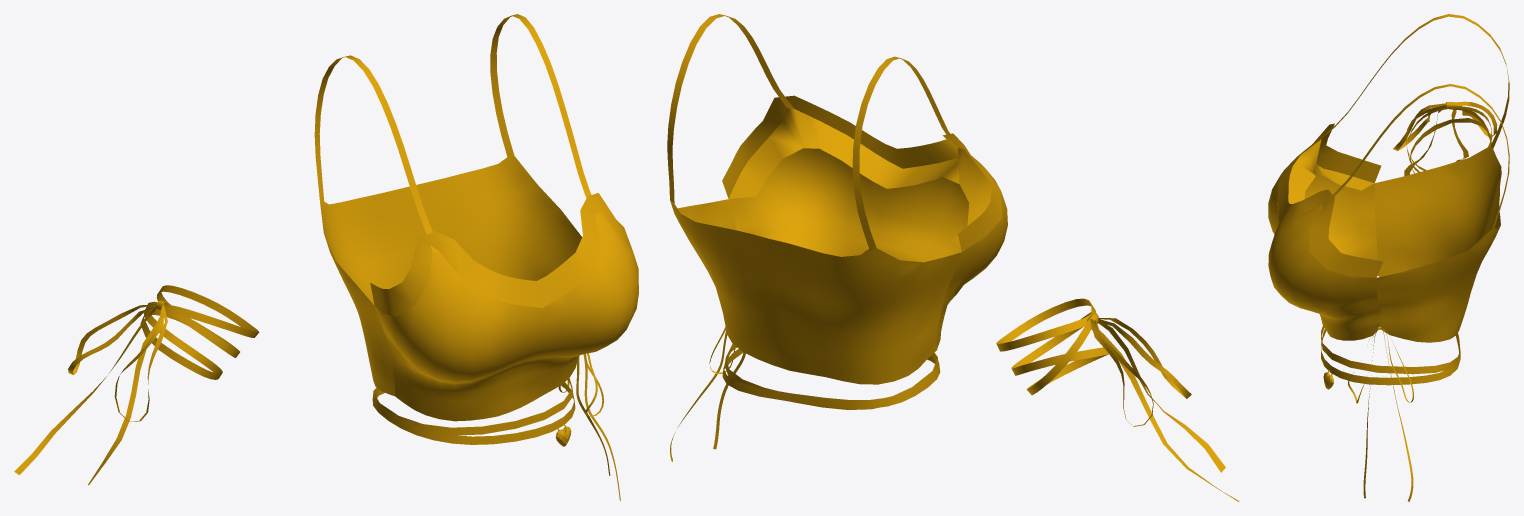
The picture shows the model from 3 angles, left to right: view 1: azimuth 30°, elevation 25°; view 2: azimuth 150°, elevation 25°; view 3: azimuth 270°, elevation 25°; orthographic projection. The views are drawn at different scales.
Visible parts, largest first — view 1: hash_439FD9BF.model; view 2: hash_439FD9BF.model; view 3: hash_439FD9BF.model.
Boxes of the visible parts, box(x1,y1,x2,y2) form: hash_439FD9BF.model: box(14, 14, 638, 501); hash_439FD9BF.model: box(667, 14, 1239, 501); hash_439FD9BF.model: box(1268, 14, 1509, 501).
Bounding box in the file's own units: 0.6485 × 0.5007 × 0.2786.
